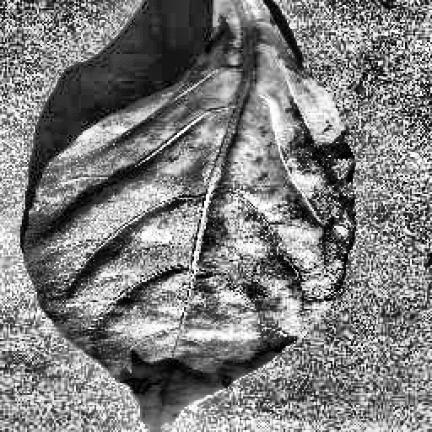leaf: (22, 0, 353, 430)
